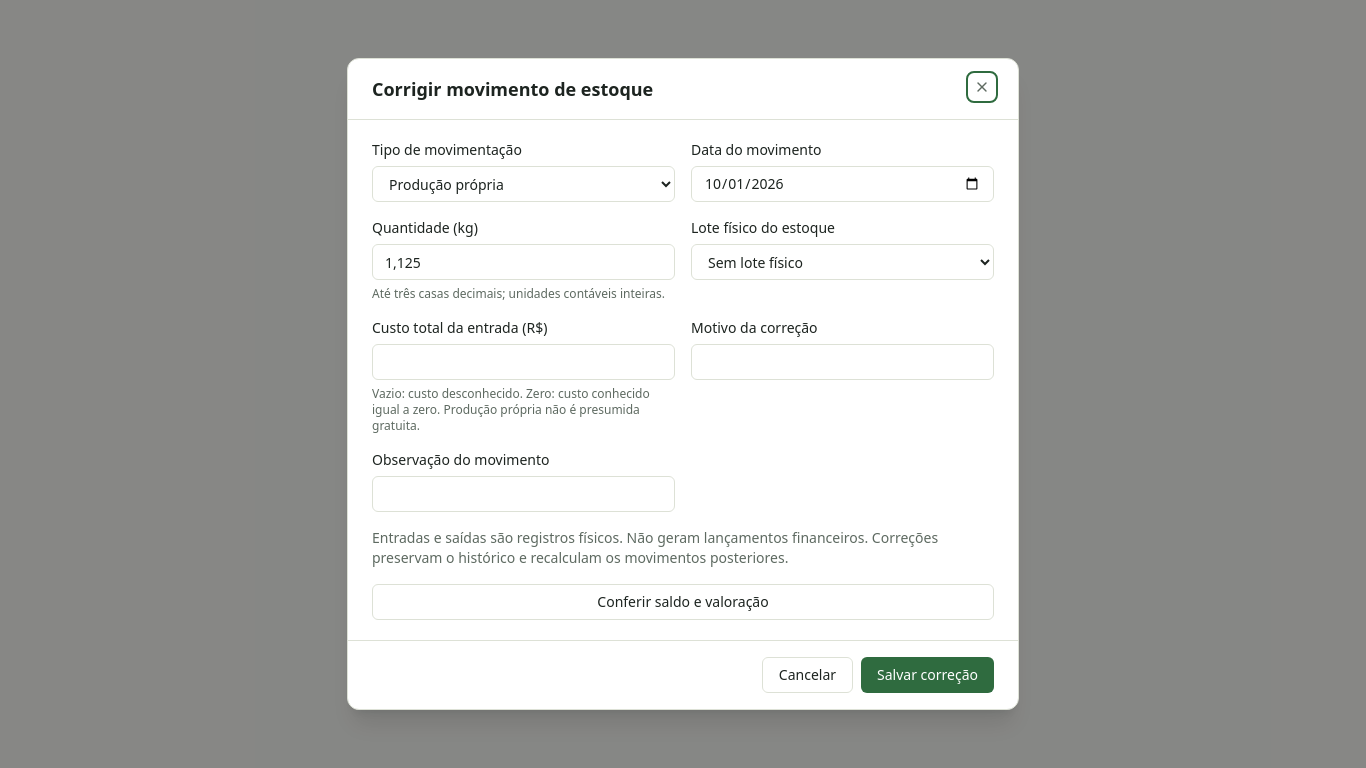
Scenario: estoque: interface e entradas explícitas › correção de quantidade com três casas usa vírgula e exige motivo
The image size is (1366, 768).
Check: the field labelled "Quantidade (kg)" holds "1,125", box [372,244,675,280]
Click the button "Salvar correção" at (928, 675), box [861,657,994,693]
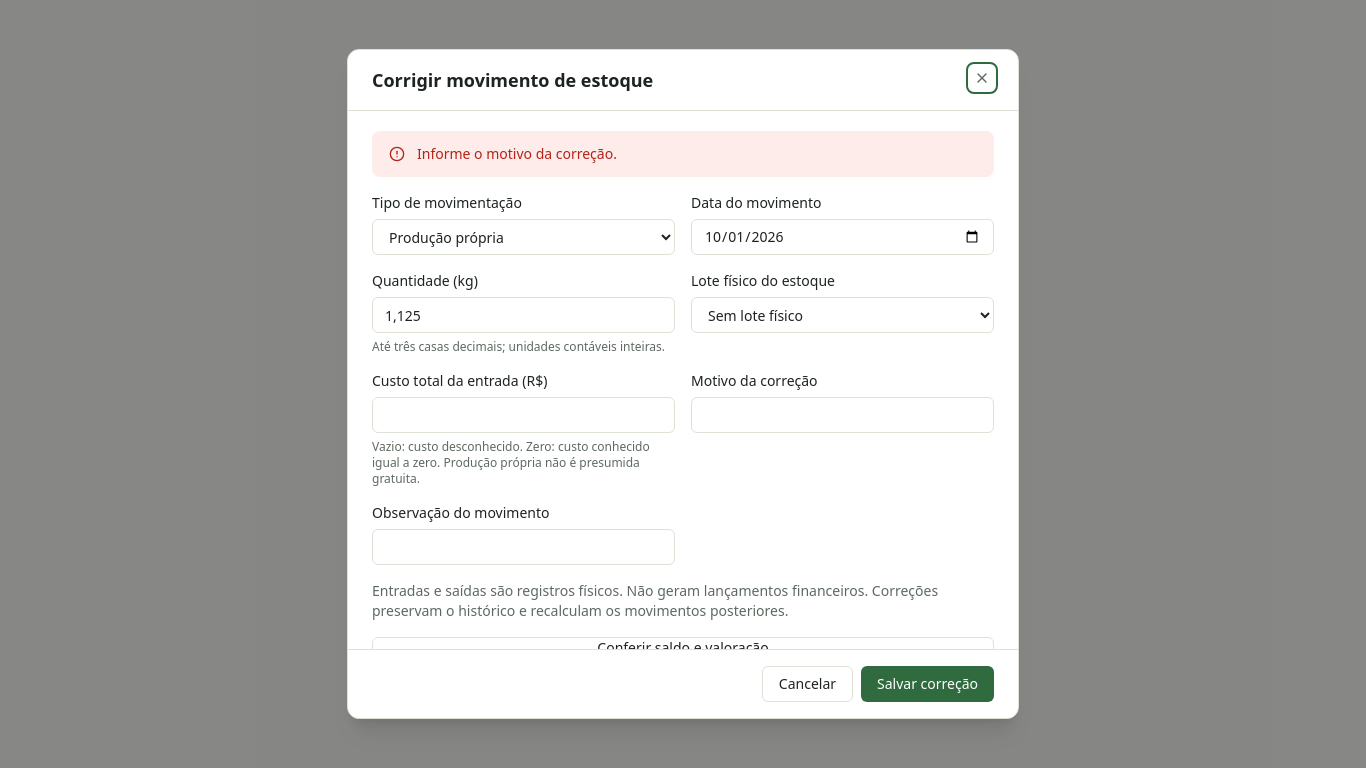
Check: the text "Informe o motivo da correção." is shown, box [417,144,617,164]
